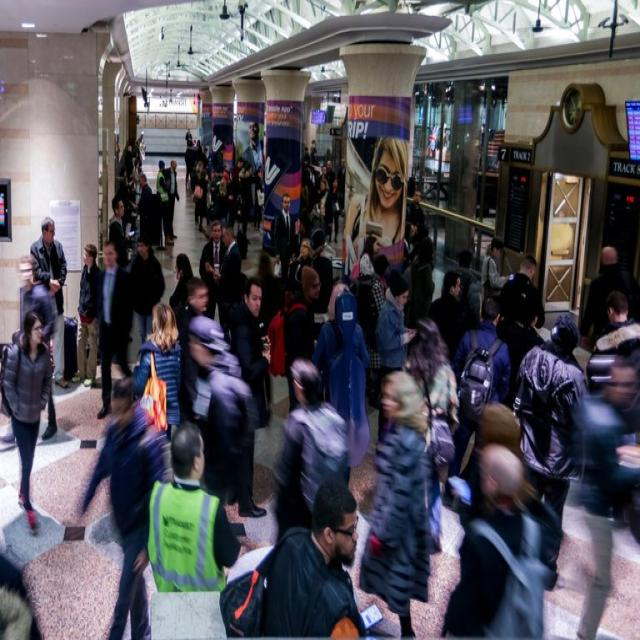body: (218, 476, 384, 640), (76, 373, 176, 640), (510, 310, 592, 594), (354, 368, 434, 640), (564, 354, 640, 640), (438, 441, 528, 640), (439, 400, 544, 570), (145, 418, 243, 593), (182, 311, 259, 516), (311, 281, 373, 494), (405, 316, 460, 556), (0, 304, 54, 536), (275, 358, 350, 524), (0, 254, 58, 444), (91, 238, 140, 422), (348, 132, 408, 272), (373, 272, 418, 442), (131, 301, 183, 442), (29, 214, 70, 389), (451, 296, 511, 408), (282, 264, 324, 417), (580, 245, 638, 352), (202, 156, 261, 247), (70, 240, 105, 390), (178, 275, 210, 424), (127, 232, 165, 350), (197, 218, 231, 346), (426, 268, 470, 366), (211, 220, 242, 356), (440, 269, 482, 365), (0, 547, 43, 637), (498, 253, 546, 330), (367, 254, 391, 408), (590, 288, 640, 358), (308, 226, 337, 346), (115, 128, 147, 226), (409, 238, 436, 326), (272, 192, 296, 288), (480, 235, 512, 307), (168, 252, 195, 335), (108, 194, 134, 270), (154, 156, 175, 248), (133, 171, 155, 247), (287, 237, 314, 296), (165, 158, 181, 241), (302, 139, 316, 230), (327, 177, 344, 246), (250, 165, 267, 232), (192, 168, 209, 235), (236, 117, 265, 156), (189, 158, 205, 225), (315, 177, 334, 231), (406, 188, 426, 237), (358, 234, 380, 276), (98, 158, 110, 226), (337, 156, 348, 213), (184, 139, 196, 187), (408, 219, 422, 254), (316, 163, 334, 190), (324, 158, 337, 186), (194, 136, 203, 170), (184, 126, 193, 158), (200, 145, 209, 171), (322, 144, 333, 160)
